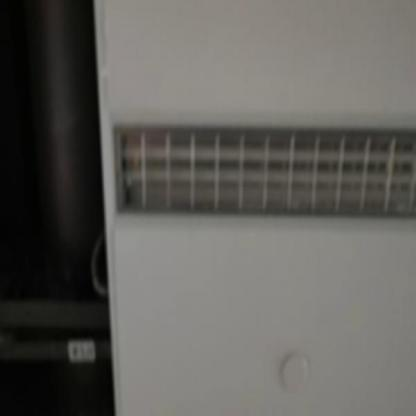light_off: (109, 80, 414, 250)
